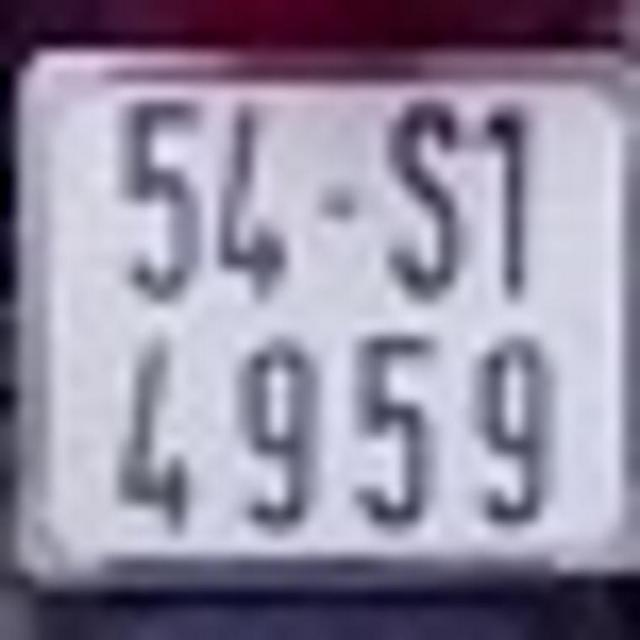1: (492, 106, 536, 304)
4: (206, 101, 293, 304), (112, 330, 194, 536)
5: (117, 96, 203, 309), (346, 321, 425, 528)
9: (480, 331, 547, 527)
S: (388, 106, 469, 301)
